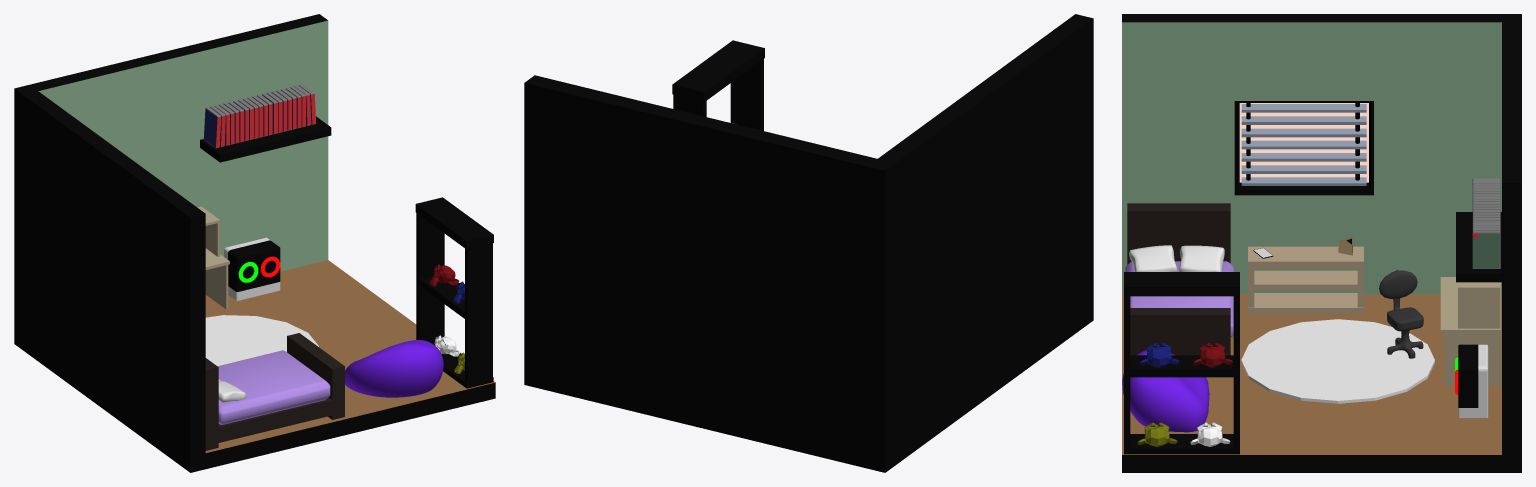
File: AboutMeRoom.gltf
The picture shows the model from 3 angles, left to right: view 1: azimuth 30°, elevation 25°; view 2: azimuth 150°, elevation 25°; view 3: azimuth 270°, elevation 25°; orthographic projection. The views are drawn at different scales.
Parts seen in each view (by area): view 1: Base, NightStand.001, Bed, Bedframe, BeanBag, Rug, PC, OverheadShelf, Desk, DeskUpper, Game; view 2: Base, NightStand.001; view 3: Base, Rug, Bedframe, NightStand.001, Blinds, NightStand, BeanBag, Desk, PC, Chair, DeskUpper, OverheadShelf (+8 smaller).
Boxes of the visible parts, bbox=[...] form: Base: bbox=[14, 14, 495, 472]; NightStand.001: bbox=[415, 197, 493, 388]; Bed: bbox=[218, 350, 330, 424]; Bedframe: bbox=[205, 333, 344, 450]; BeanBag: bbox=[345, 339, 443, 397]; Rug: bbox=[205, 315, 318, 366]; PC: bbox=[224, 237, 280, 300]; OverheadShelf: bbox=[200, 116, 331, 162]; Desk: bbox=[205, 248, 229, 309]; DeskUpper: bbox=[197, 206, 220, 256]; Game: bbox=[203, 107, 221, 148]; Base: bbox=[524, 14, 1093, 472]; NightStand.001: bbox=[672, 40, 764, 130]; Base: bbox=[1122, 14, 1521, 472]; Rug: bbox=[1241, 319, 1434, 403]; Bedframe: bbox=[1127, 203, 1230, 355]; NightStand.001: bbox=[1124, 272, 1239, 454]; Blinds: bbox=[1241, 104, 1366, 185]; NightStand: bbox=[1248, 246, 1363, 313]; BeanBag: bbox=[1122, 350, 1209, 432]; Desk: bbox=[1440, 277, 1500, 385]; PC: bbox=[1458, 344, 1488, 417]; Chair: bbox=[1379, 270, 1423, 358]; DeskUpper: bbox=[1458, 282, 1500, 328]; OverheadShelf: bbox=[1456, 212, 1501, 282].
Bounding box in the file's own units: 20 × 16 × 20.
